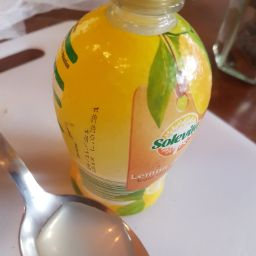Lime juice: (65, 15, 213, 218), (12, 195, 150, 256), (49, 223, 129, 254)
